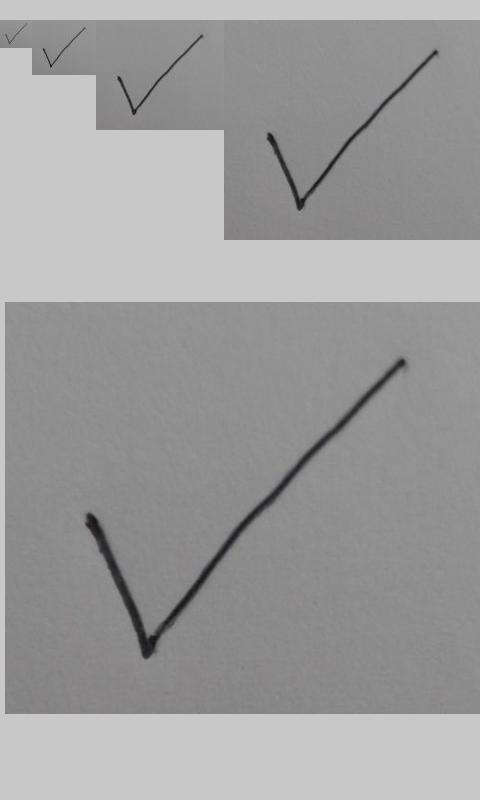check_box: (86, 358, 404, 661), (267, 51, 437, 211), (117, 35, 203, 115), (42, 27, 86, 67), (5, 24, 26, 44)
